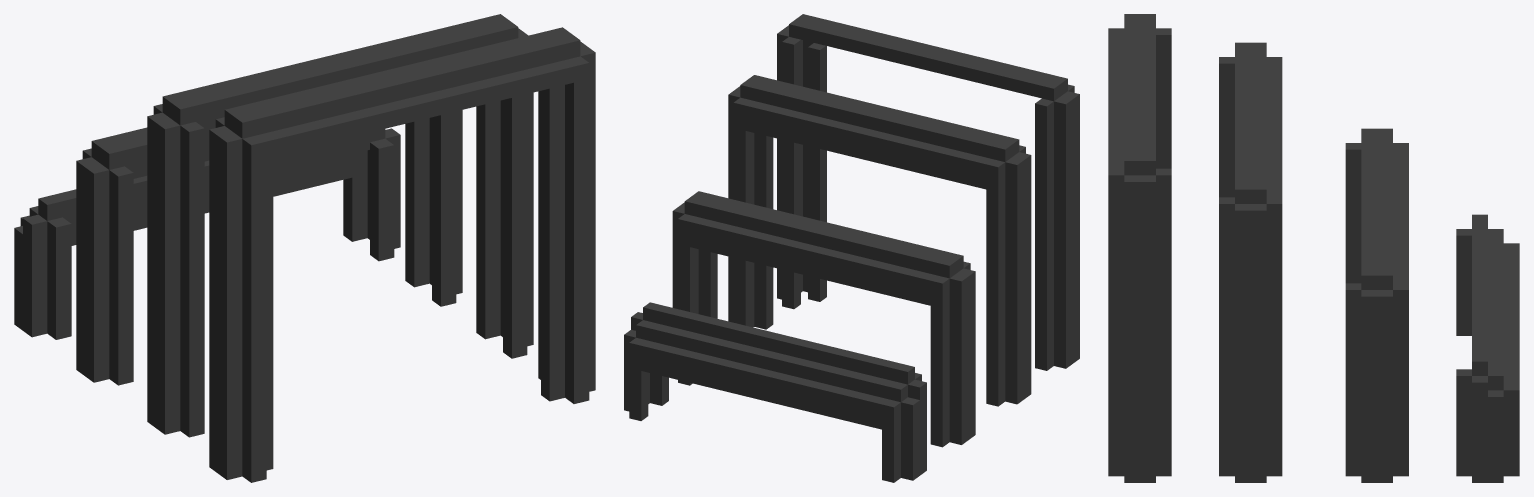
The model's file is MinaNivel5.obj.
3 views of the same model, side by side, from view 1: azimuth 30°, elevation 25°; view 2: azimuth 150°, elevation 25°; view 3: azimuth 270°, elevation 25° (orthographic). The views are drawn at different scales.
Size of the model in its own units: 2.4 by 2.2 by 2.6.
Materials: 1 (1 with a texture image).
